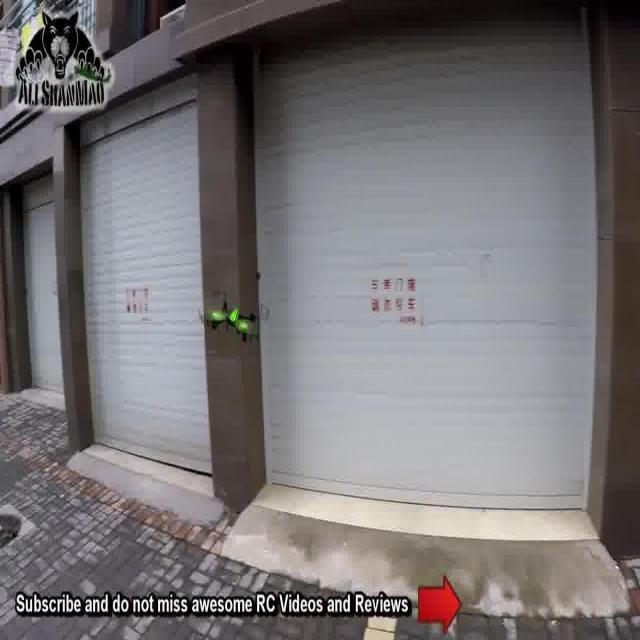drones: (189, 285, 274, 351)
